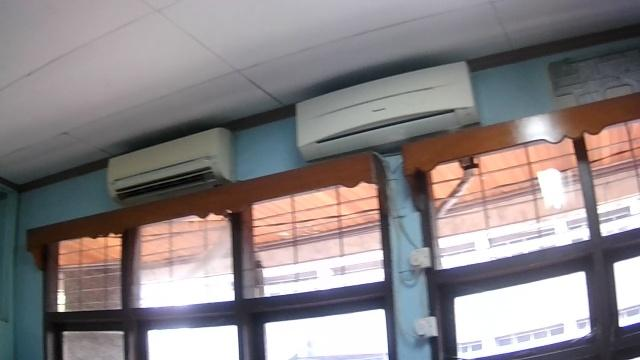AC: (293, 57, 482, 163), (105, 125, 238, 206)
